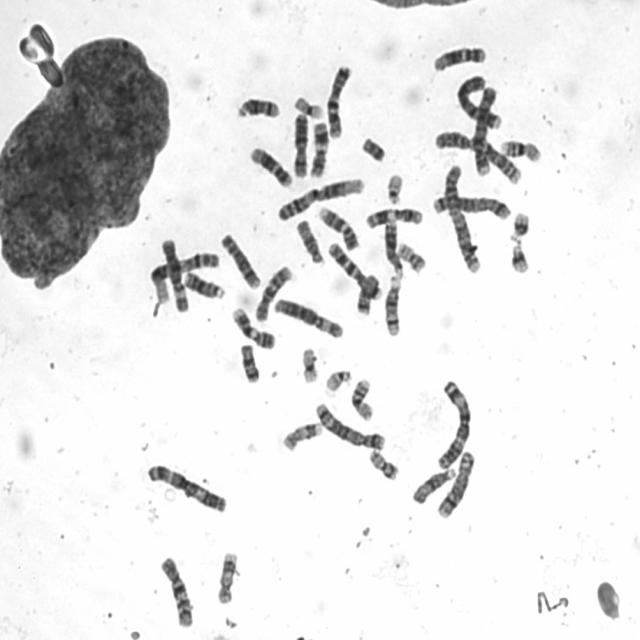A1: (272, 172, 367, 222), (146, 247, 221, 306)
A2: (431, 125, 524, 185), (441, 159, 483, 275)
A3: (141, 458, 229, 515), (432, 374, 474, 470)
B4: (468, 79, 501, 178), (452, 69, 504, 131)
B5: (311, 398, 388, 452), (428, 190, 513, 221)
C10: (156, 550, 195, 629), (250, 259, 294, 323)
C11: (361, 201, 424, 230), (306, 116, 330, 178)
C12: (245, 142, 294, 188), (428, 41, 488, 72)
C6: (270, 293, 345, 340), (156, 233, 190, 313)
C7: (324, 236, 384, 302), (322, 59, 353, 140)
C8: (433, 447, 476, 520), (217, 228, 262, 290)
C9: (227, 302, 277, 350), (314, 202, 361, 252)
D13: (179, 266, 226, 300), (380, 216, 405, 278)
D14: (380, 270, 403, 338), (232, 92, 282, 120)
D15: (408, 462, 458, 506), (292, 214, 326, 265)
E16: (497, 134, 543, 164), (347, 373, 375, 422)
E17: (212, 546, 239, 606), (278, 417, 324, 452)
E18: (352, 269, 380, 316), (236, 339, 261, 384)
F19: (290, 90, 325, 119), (297, 341, 320, 385)
F20: (393, 237, 428, 274), (365, 444, 400, 480)
G21: (506, 235, 531, 275), (506, 206, 532, 239)
G22: (321, 364, 353, 393), (382, 168, 405, 206)
X: (289, 108, 310, 178)
Y: (357, 130, 387, 163)
